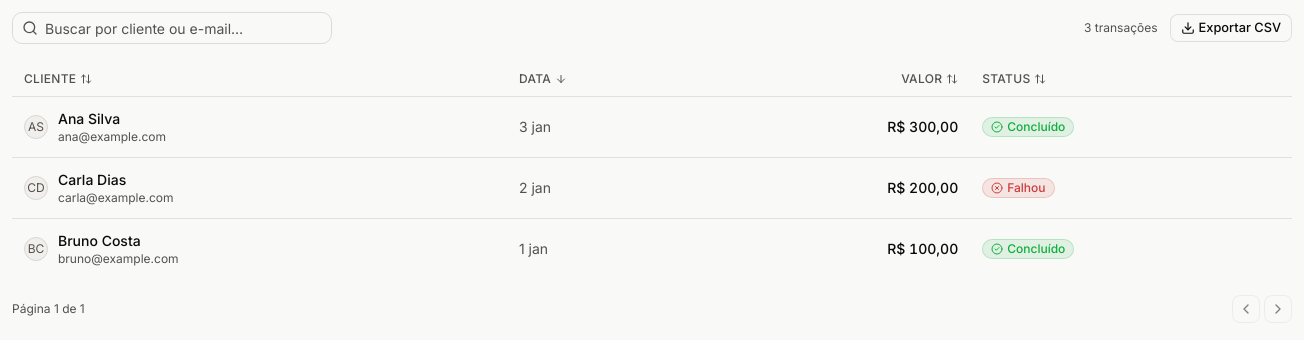
Test: TransactionsTable › shows an empty state for a search with no matches
Type "zzz-no-match" into the field named "Buscar transações" at (172,28), box [12, 12, 332, 44]
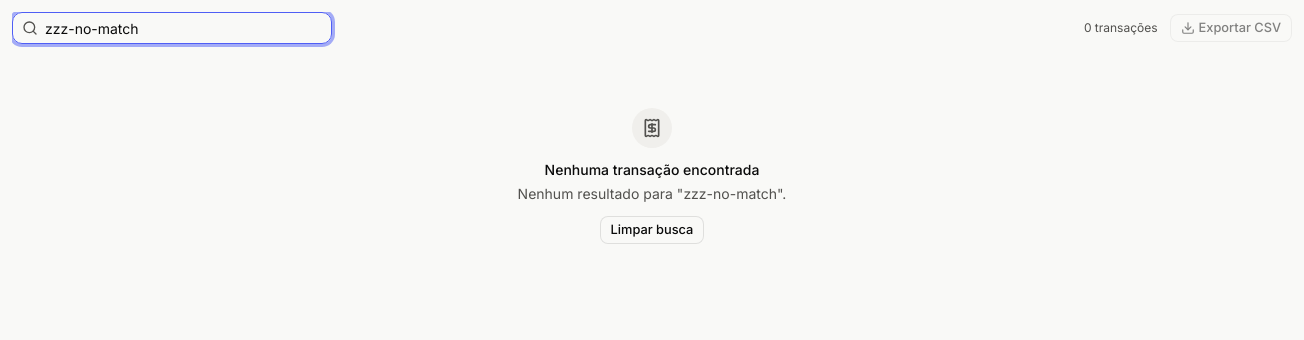
Now the text "Nenhuma transação encontrada" is shown, box [545, 161, 759, 178]
Now the button "Limpar busca" is shown, box [600, 216, 704, 244]
